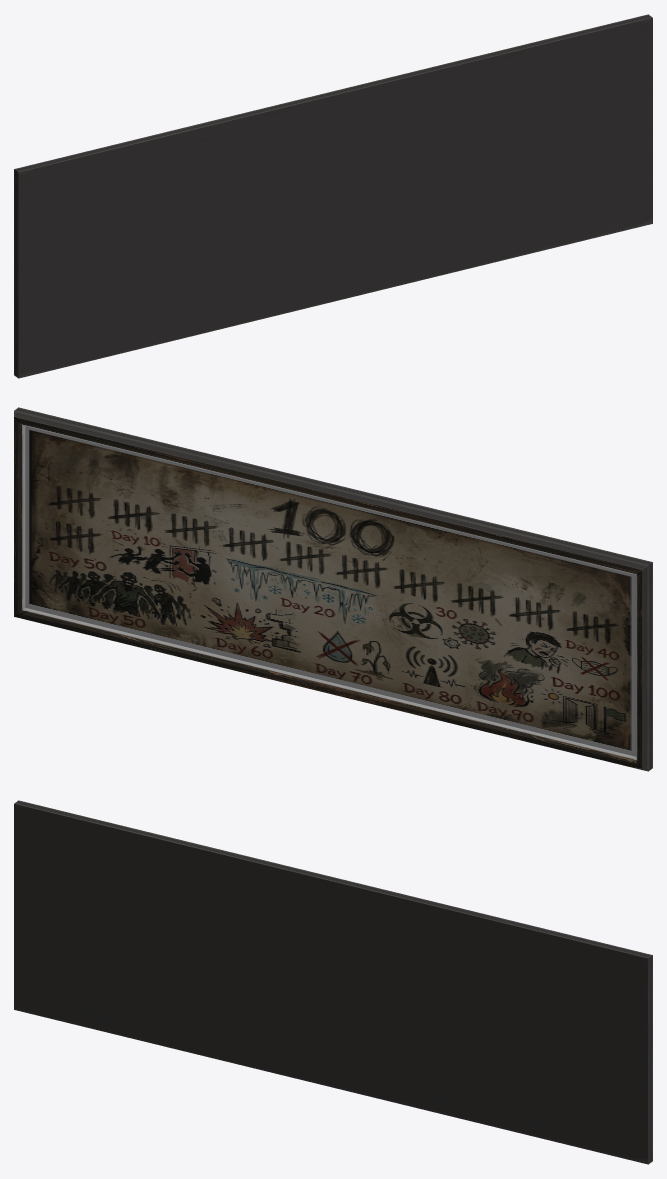
Rendered from P_HangingPictures_017_S1_M01.obj.
3 renders of one model, top to bottom at view 1: azimuth 30°, elevation 25°; view 2: azimuth 150°, elevation 25°; view 3: azimuth 330°, elevation 25°, orthographic.
Size of the model in its own units: 2.9 by 0.9 by 0.06.
1 material, 1 textured.
